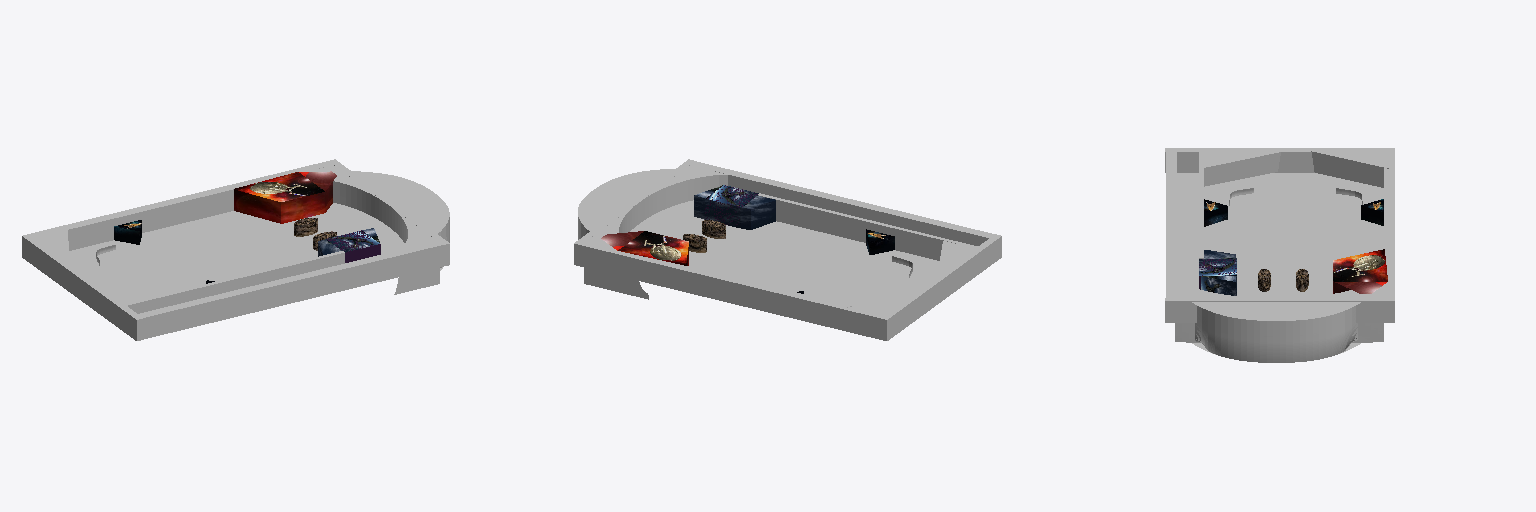
3 views of the same model, side by side, from view 1: azimuth 30°, elevation 25°; view 2: azimuth 150°, elevation 25°; view 3: azimuth 270°, elevation 25° (orthographic).
Parts seen in each view (by area): view 1: Plane, Cube.001_Cube.002, Cube.005_Cube.006, Cube_Cube.001, Cube.006_Cube.007, Cube.004_Cube.005, Cube.002_Cube.003, Cube.007_Cube.008, Cube.003_Cube.004, Plane.003, Plane.004, Cube.009_Cube.010; view 2: Plane, Cube_Cube.001, Cube.005_Cube.006, Cube.001_Cube.002, Cube.002_Cube.003, Cube.004_Cube.005, Cube.007_Cube.008, Cube.006_Cube.007, Cube.003_Cube.004, Plane.003, Plane.004, Cube.008_Cube.009; view 3: Plane, Cube.005_Cube.006, Cube.003_Cube.004, Cube.004_Cube.005, Cube.006_Cube.007, Cube.001_Cube.002, Cube.007_Cube.008, Cube_Cube.001, Plane.001, Plane.002, Plane.003, Plane.004 (+1 smaller).
Part boxes in pixels (x1,y1,x2,y2): Plane: (69,203,404,295); Cube.001_Cube.002: (134,241,445,338); Cube.005_Cube.006: (307,165,449,294); Cube_Cube.001: (27,161,336,250); Cube.006_Cube.007: (234,171,336,223); Cube.004_Cube.005: (22,234,143,340); Cube.002_Cube.003: (122,251,344,313); Cube.007_Cube.008: (318,228,380,262); Cube.003_Cube.004: (329,159,449,266); Plane.003: (33,229,70,264); Plane.004: (87,276,154,303); Cube.009_Cube.010: (114,220,141,244); Plane: (630,200,939,305); Cube_Cube.001: (577,240,886,340); Cube.005_Cube.006: (578,165,727,299); Cube.001_Cube.002: (687,160,995,245); Cube.002_Cube.003: (758,193,977,260); Cube.004_Cube.005: (881,234,1001,340); Cube.007_Cube.008: (694,185,775,229); Cube.006_Cube.007: (601,231,688,265); Cube.003_Cube.004: (574,159,693,265); Plane.003: (853,286,924,313); Plane.004: (937,241,975,275); Cube.008_Cube.009: (866,229,894,254); Plane: (1177,173,1383,297); Cube.005_Cube.006: (1175,280,1383,362); Cube.003_Cube.004: (1165,298,1394,322); Cube.004_Cube.005: (1165,148,1394,172); Cube.006_Cube.007: (1333,249,1387,293); Cube.001_Cube.002: (1166,149,1176,297); Cube.007_Cube.008: (1199,250,1236,295); Cube_Cube.001: (1384,149,1394,297); Plane.001: (1311,151,1388,187); Plane.002: (1204,152,1280,186); Plane.003: (1312,151,1384,167); Plane.004: (1204,152,1278,167).
Size of the model in its own units: 9.09 by 1.07 by 5.13.
Materials: 9 (6 with a texture image).